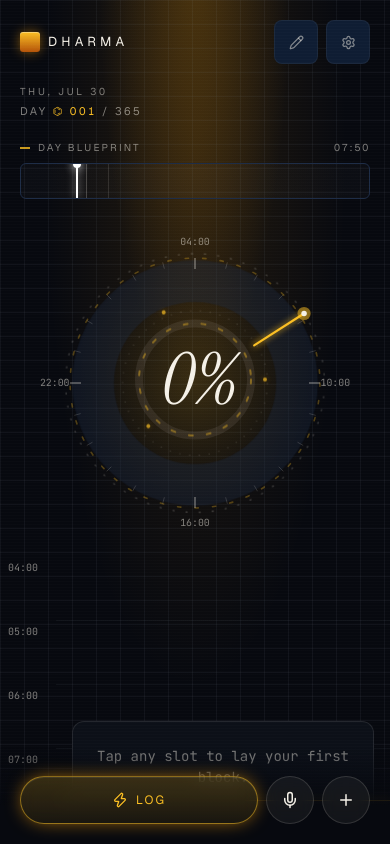
Test: C-m4d-009: dock + opens AddChooserSheet, not AddBlockSheet directly › chooser → 'Add Block' → AddBlockSheet opens; chooser closes
Note: Open chooser
Step 1. Click the button named "Add" → (346, 800), box 322,776 -> 370,824
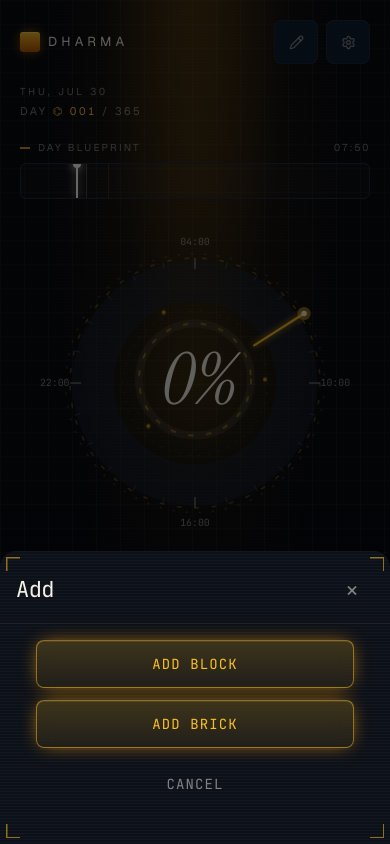
Note: Click "Add Block" inside chooser
Step 2. Click the button "Add Block" → (195, 664), box 36,640 -> 354,688
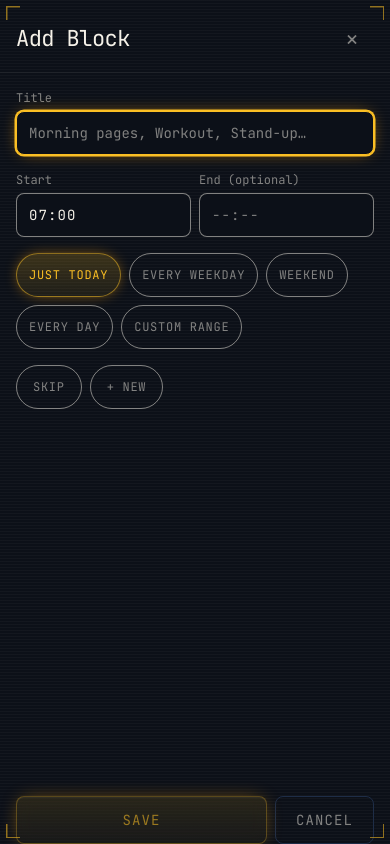
Check: the field labelled "Title" is shown, box 16,111 -> 374,155
